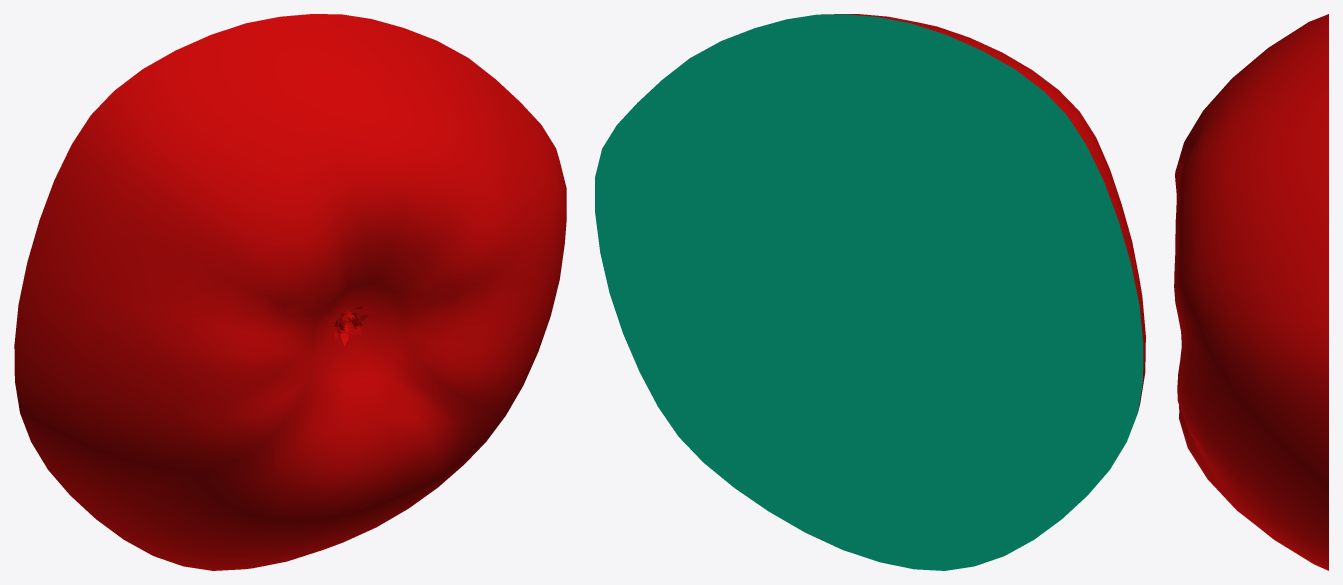
The picture shows the model from 3 angles, left to right: view 1: azimuth 30°, elevation 25°; view 2: azimuth 150°, elevation 25°; view 3: azimuth 270°, elevation 25°; orthographic projection. The views are drawn at different scales.
Visible parts, largest first — view 1: 37_05; view 2: 37_05; view 3: 37_05.
Boxes of the visible parts, x1=… form: 37_05: x1=14, y1=14, x2=566, y2=570; 37_05: x1=595, y1=14, x2=1145, y2=570; 37_05: x1=1174, y1=14, x2=1328, y2=570.
Size of the model in its own units: 462 by 440 by 126.
